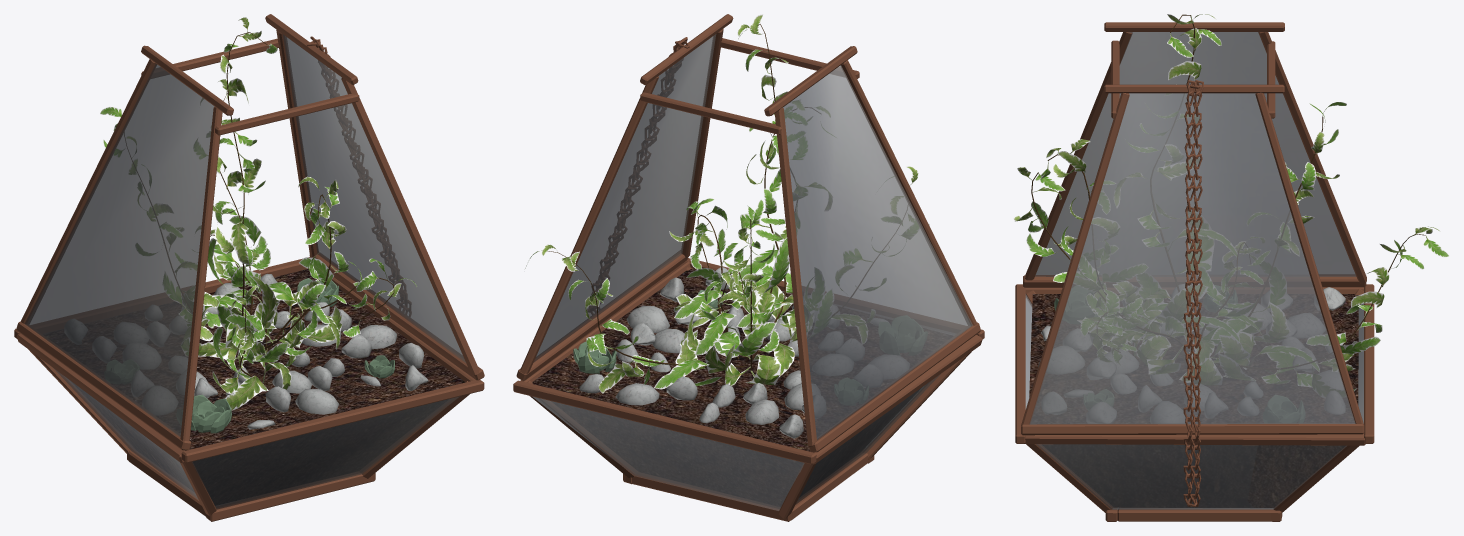
The picture shows the model from 3 angles, left to right: view 1: azimuth 30°, elevation 25°; view 2: azimuth 150°, elevation 25°; view 3: azimuth 270°, elevation 25°; orthographic projection. The views are drawn at different scales.
Parts seen in each view (by area): view 1: Object_6, Object_10, Object_2, Object_4, Object_9, Object_5, Object_8, Object_3, Object_7, Object_11; view 2: Object_6, Object_10, Object_2, Object_4, Object_9, Object_5, Object_8, Object_7, Object_3, Object_11; view 3: Object_6, Object_10, Object_2, Object_4, Object_5, Object_9, Object_11, Object_3, Object_7, Object_8.
Part boxes in pixels (x1=…): Object_6: x1=25, y1=34, x2=465, y2=509; Object_10: x1=14, y1=14, x2=484, y2=521; Object_2: x1=44, y1=268, x2=465, y2=505; Object_4: x1=100, y1=17, x2=416, y2=410; Object_9: x1=65, y1=273, x2=428, y2=429; Object_5: x1=113, y1=22, x2=403, y2=391; Object_8: x1=117, y1=295, x2=394, y2=433; Object_3: x1=124, y1=32, x2=394, y2=384; Object_7: x1=104, y1=278, x2=392, y2=430; Object_11: x1=306, y1=36, x2=407, y2=314; Object_6: x1=532, y1=34, x2=972, y2=510; Object_10: x1=513, y1=14, x2=984, y2=521; Object_2: x1=532, y1=268, x2=952, y2=506; Object_4: x1=525, y1=14, x2=929, y2=389; Object_9: x1=579, y1=267, x2=909, y2=438; Object_5: x1=534, y1=25, x2=919, y2=393; Object_8: x1=602, y1=290, x2=927, y2=394; Object_7: x1=573, y1=289, x2=920, y2=404; Object_3: x1=547, y1=24, x2=903, y2=373; Object_11: x1=587, y1=39, x2=689, y2=312; Object_6: x1=1025, y1=32, x2=1363, y2=509; Object_10: x1=1015, y1=22, x2=1374, y2=521; Object_2: x1=1029, y1=294, x2=1358, y2=507; Object_4: x1=1013, y1=14, x2=1449, y2=383; Object_5: x1=1020, y1=15, x2=1435, y2=397; Object_9: x1=1038, y1=284, x2=1345, y2=422; Object_11: x1=1187, y1=80, x2=1203, y2=507; Object_3: x1=1031, y1=14, x2=1425, y2=369; Object_7: x1=1068, y1=285, x2=1304, y2=422; Object_8: x1=1054, y1=285, x2=1278, y2=412.
Bounding box in the file's own units: 0.2912 × 0.4 × 0.3389.
Materials: 7 (4 with a texture image).
